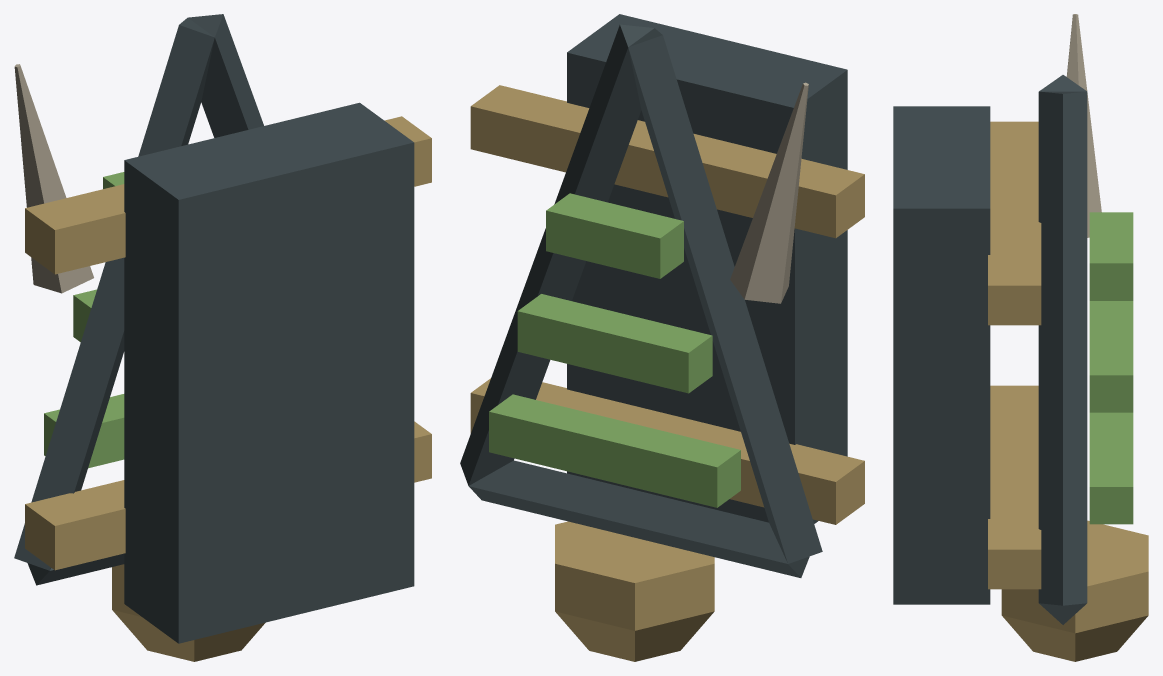
Rendered from Arsenal_VenomGrooveEdge.fbx.
3 views of the same model, side by side, from view 1: azimuth 30°, elevation 25°; view 2: azimuth 150°, elevation 25°; view 3: azimuth 270°, elevation 25° (orthographic). The views are drawn at different scales.
Visible parts, largest first — view 1: Arsenal_VenomGrooveEdge; view 2: Arsenal_VenomGrooveEdge; view 3: Arsenal_VenomGrooveEdge.
Part boxes in pixels (<box>): Arsenal_VenomGrooveEdge: <box>14,14,431,661</box>; Arsenal_VenomGrooveEdge: <box>460,14,864,661</box>; Arsenal_VenomGrooveEdge: <box>893,14,1148,661</box>.
Bounding box in the file's own units: 0.16 × 0.2533 × 0.1053.
